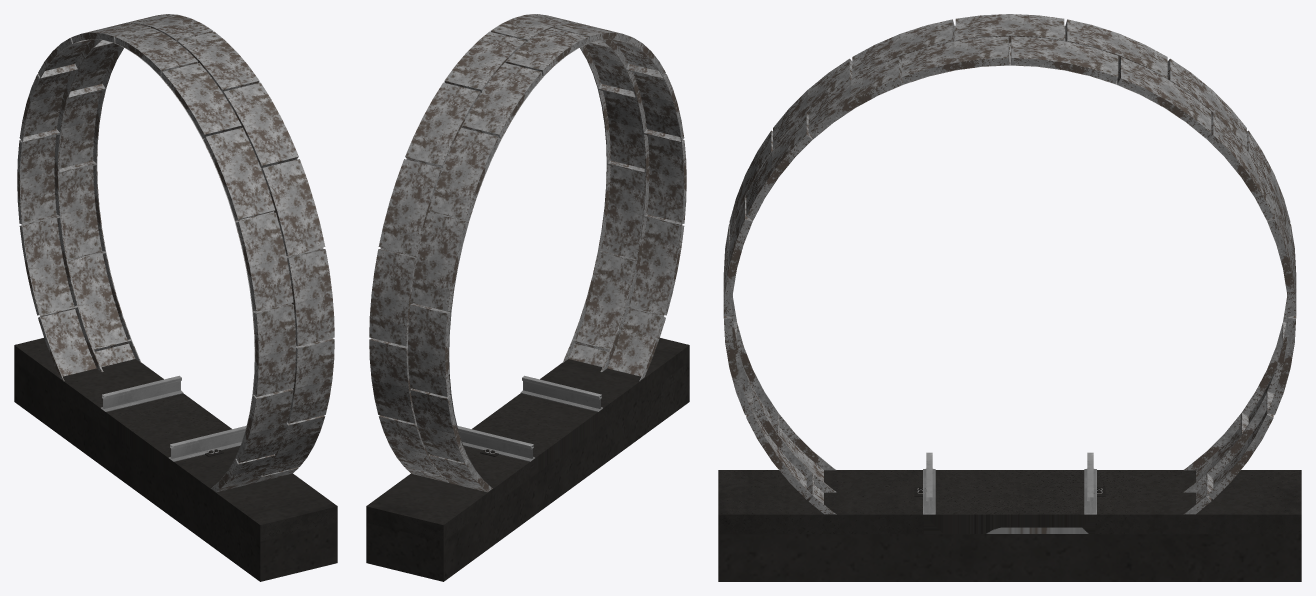
The model's file is tunnel.fbx.
3 renders of one model, left to right at view 1: azimuth 30°, elevation 25°; view 2: azimuth 150°, elevation 25°; view 3: azimuth 270°, elevation 25°, orthographic. The views are drawn at different scales.
Parts seen in each view (by area): view 1: tunnel_low; view 2: tunnel_low; view 3: tunnel_low.
Part boxes in pixels (x1=…): tunnel_low: x1=14, y1=14, x2=337, y2=581; tunnel_low: x1=366, y1=14, x2=689, y2=581; tunnel_low: x1=718, y1=14, x2=1301, y2=581.
Bounding box in the file's own units: 550 × 100 × 545.
